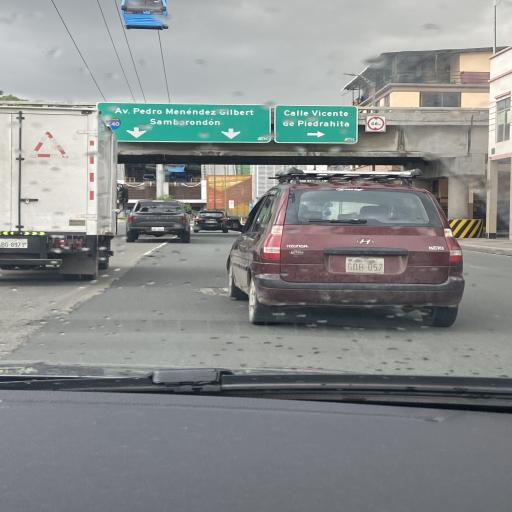license_plate: (346, 258, 384, 273), (0, 239, 27, 248), (152, 227, 164, 231), (206, 221, 216, 223)
